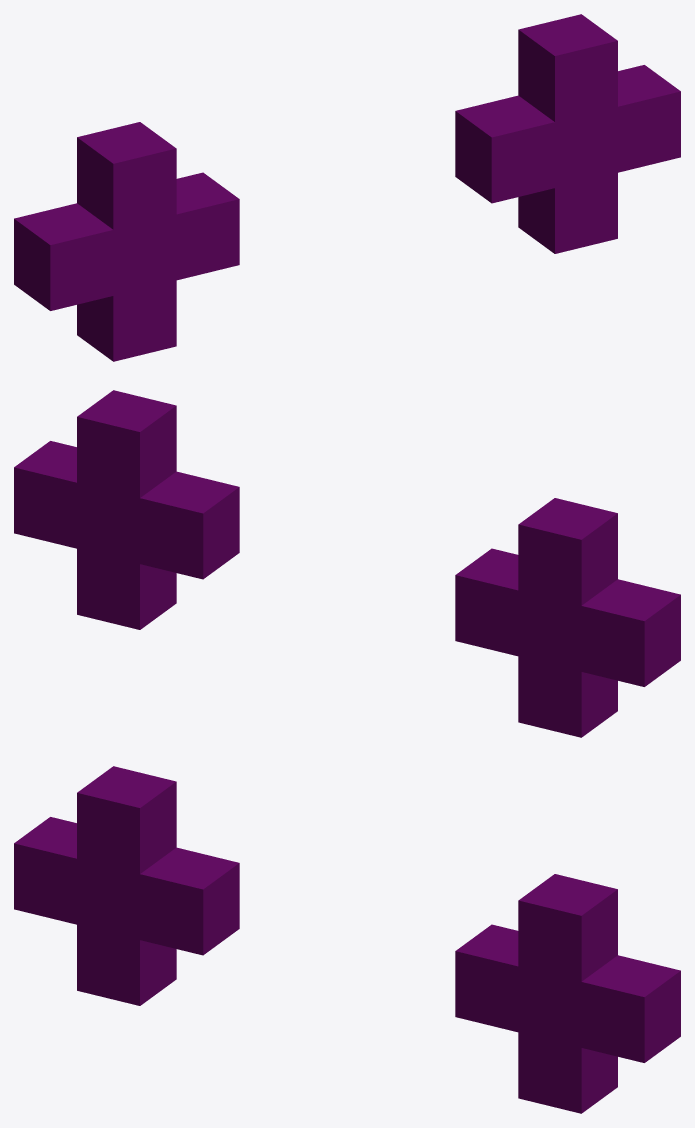
Rendered from Ship_4-1.obj.
3 views of the same model, one above another, from view 1: azimuth 30°, elevation 25°; view 2: azimuth 150°, elevation 25°; view 3: azimuth 330°, elevation 25° (orthographic).
Visible parts, largest first — view 1: Ship_4-1; view 2: Ship_4-1; view 3: Ship_4-1.
Boxes of the visible parts, bbox=[...] form: Ship_4-1: bbox=[14, 14, 680, 361]; Ship_4-1: bbox=[14, 390, 680, 737]; Ship_4-1: bbox=[14, 766, 680, 1113].
Size of the model in its own units: 10 by 3 by 1.
Materials: 1 (1 with a texture image).
